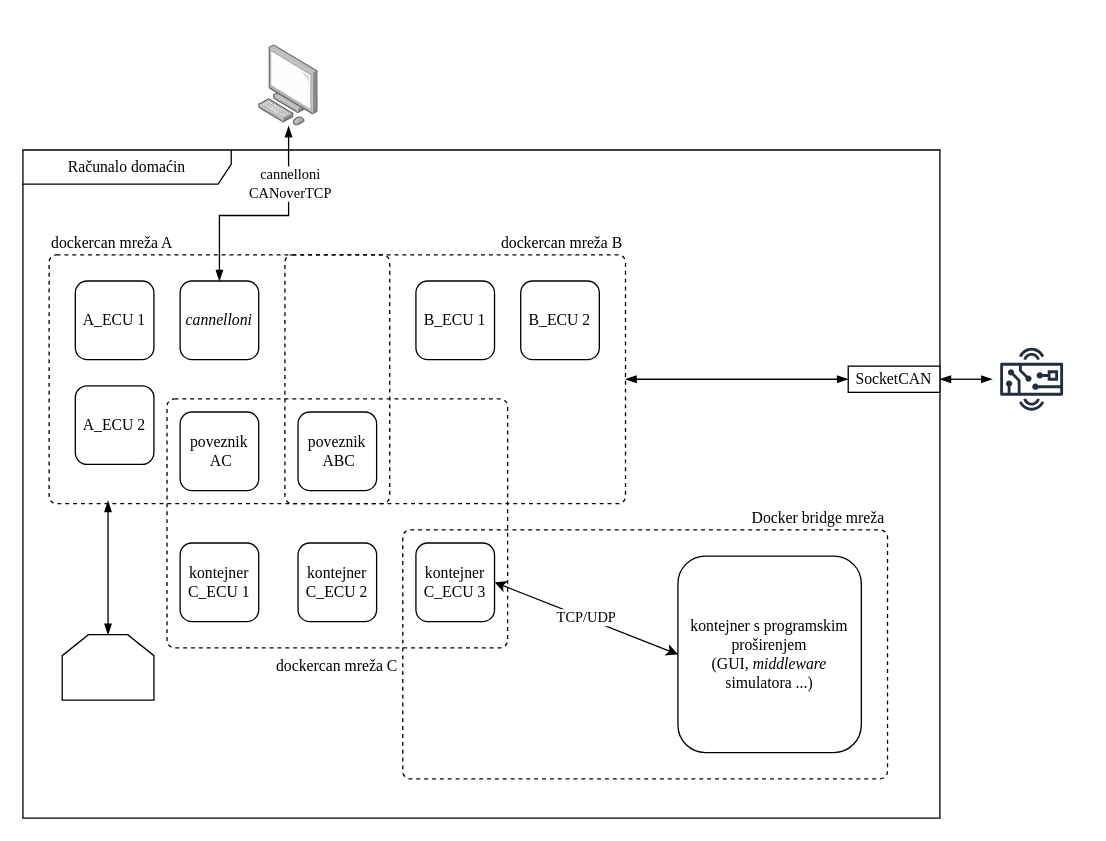
Image size: 1106x841. Some labels were removed from this diagram. The shapes that lost their labels are listed below. From the top down, each one's centre as x and y in pixels, then its label:
At (288,85): "udaljeno računalo".
At (1031,379): "CAN sklopovlje".
At (107,666): "virtualno CAN sučelje".
